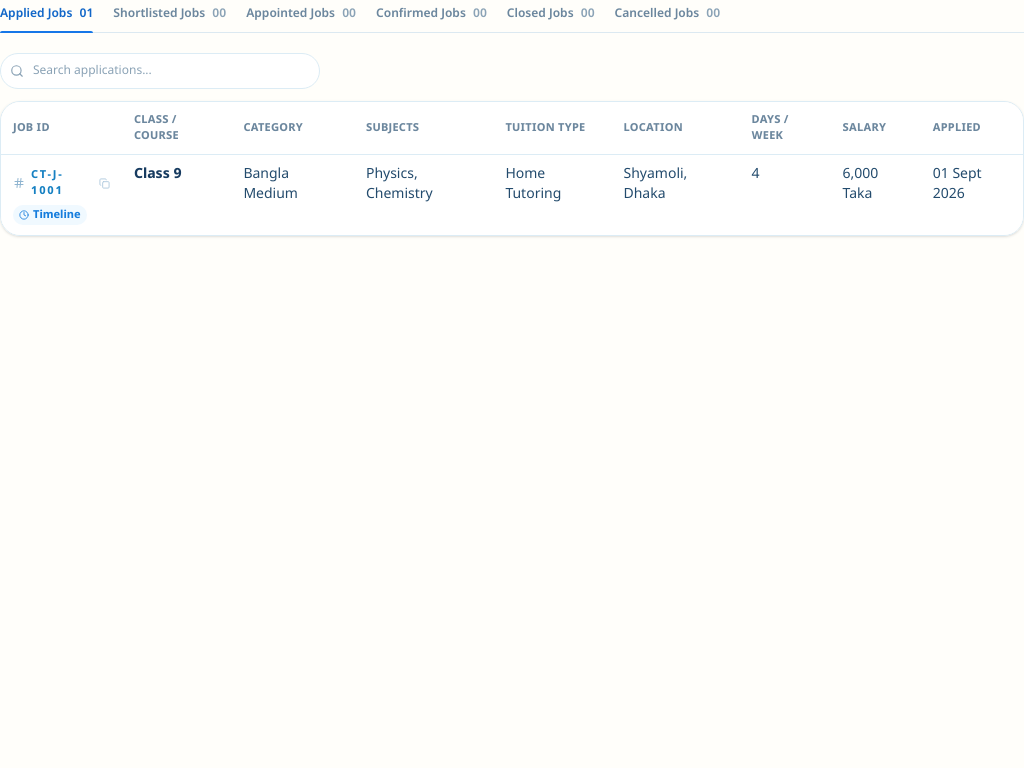
Test case: Interactive Timeline Tracker Modal › opens the interactive timeline modal when clicking Timeline button
Click the Timeline button
Click the button with aria-label "View timeline for CT-J-1001". click: (50, 215)
box: [13,205,87,225]
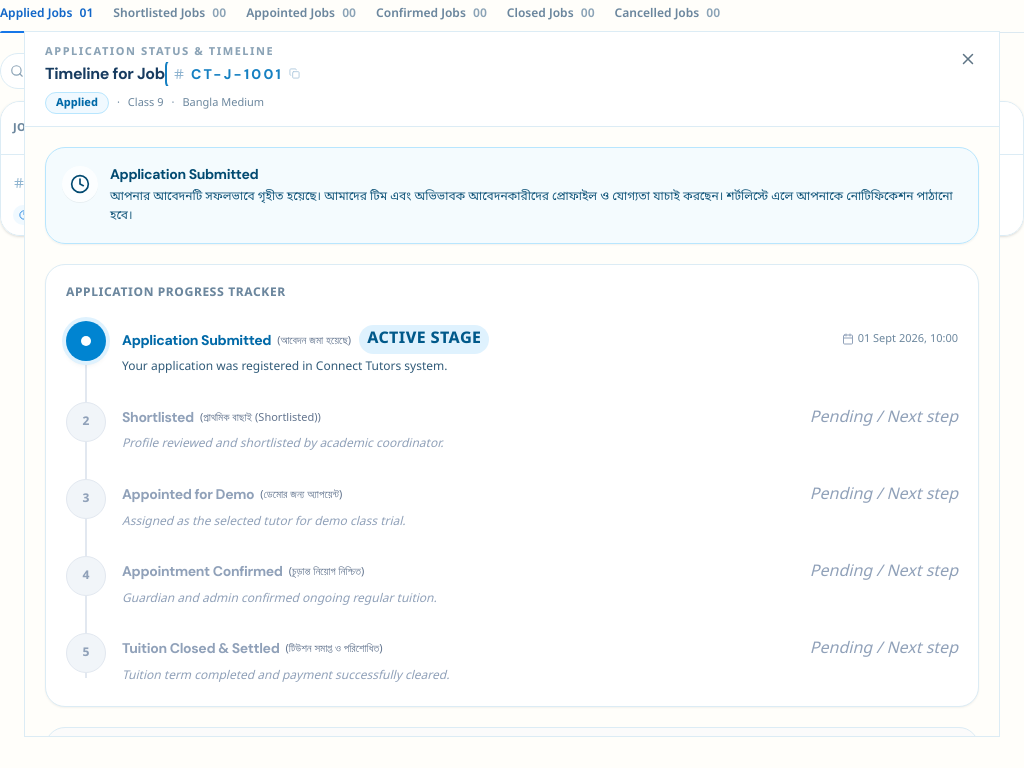
Expected: the dialog with test id "tutor-application-timeline-modal" is shown
Expected: the text "Application Status & Timeline" is shown, [45,44,300,60]
Expected: the text "Timeline for Job" is shown, [45,62,165,86]
Close modal
Click the button named "Close". click: (968, 59)
box: [953,44,983,74]
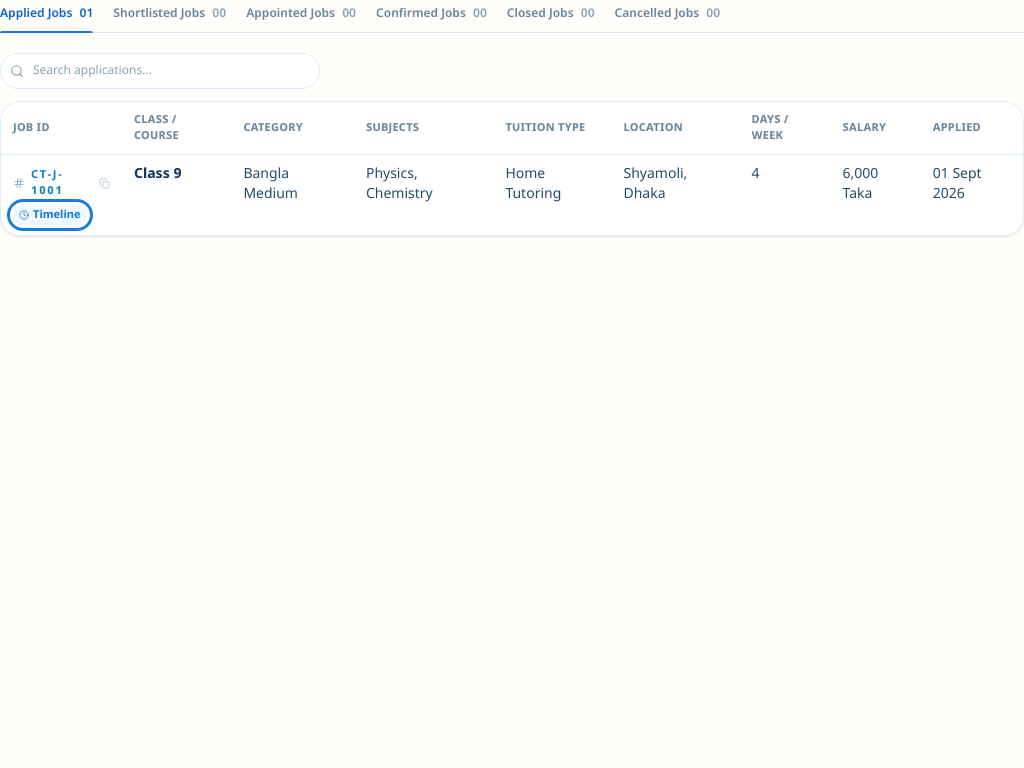
Expected: the dialog with test id "tutor-application-timeline-modal" is gone
